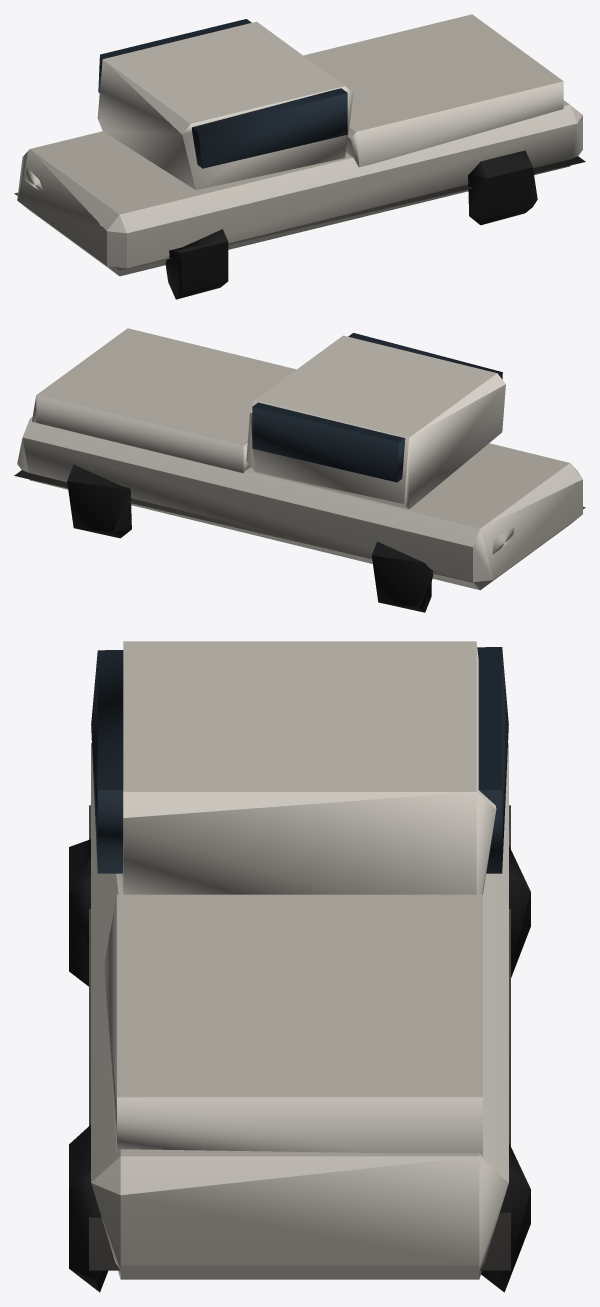
File: car-pickup-v1.lod2.glb
The picture shows the model from 3 angles, top to bottom: view 1: azimuth 30°, elevation 25°; view 2: azimuth 150°, elevation 25°; view 3: azimuth 270°, elevation 25°; orthographic projection. The views are drawn at different scales.
Parts seen in each view (by area): view 1: car-pickup-v1.lod2; view 2: car-pickup-v1.lod2; view 3: car-pickup-v1.lod2.
Part boxes in pixels (x1,y1,x2,y2): car-pickup-v1.lod2: (14,14,585,299); car-pickup-v1.lod2: (14,328,585,612); car-pickup-v1.lod2: (69,641,530,1292).
Bounding box in the file's own units: 5 × 1.66 × 2.1.
